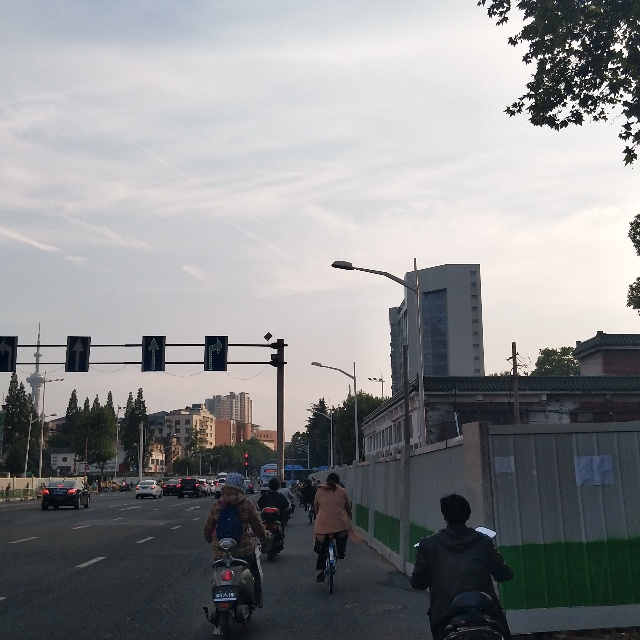left: (1, 334, 18, 373)
right: (202, 332, 232, 374)
straight: (140, 327, 169, 373), (63, 334, 95, 373)
